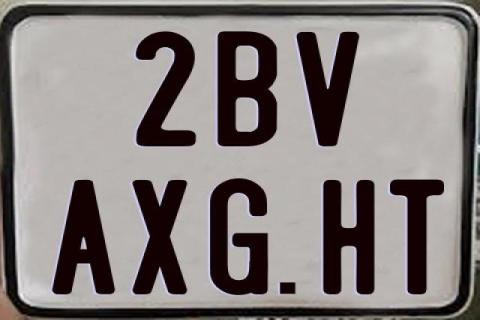0: (135, 31, 196, 149)
A: (49, 180, 114, 299)
B: (217, 30, 278, 146)
G: (207, 178, 271, 300)
H: (320, 179, 373, 299)
T: (388, 179, 447, 296)
V: (294, 32, 358, 146)
X: (129, 177, 190, 293)
